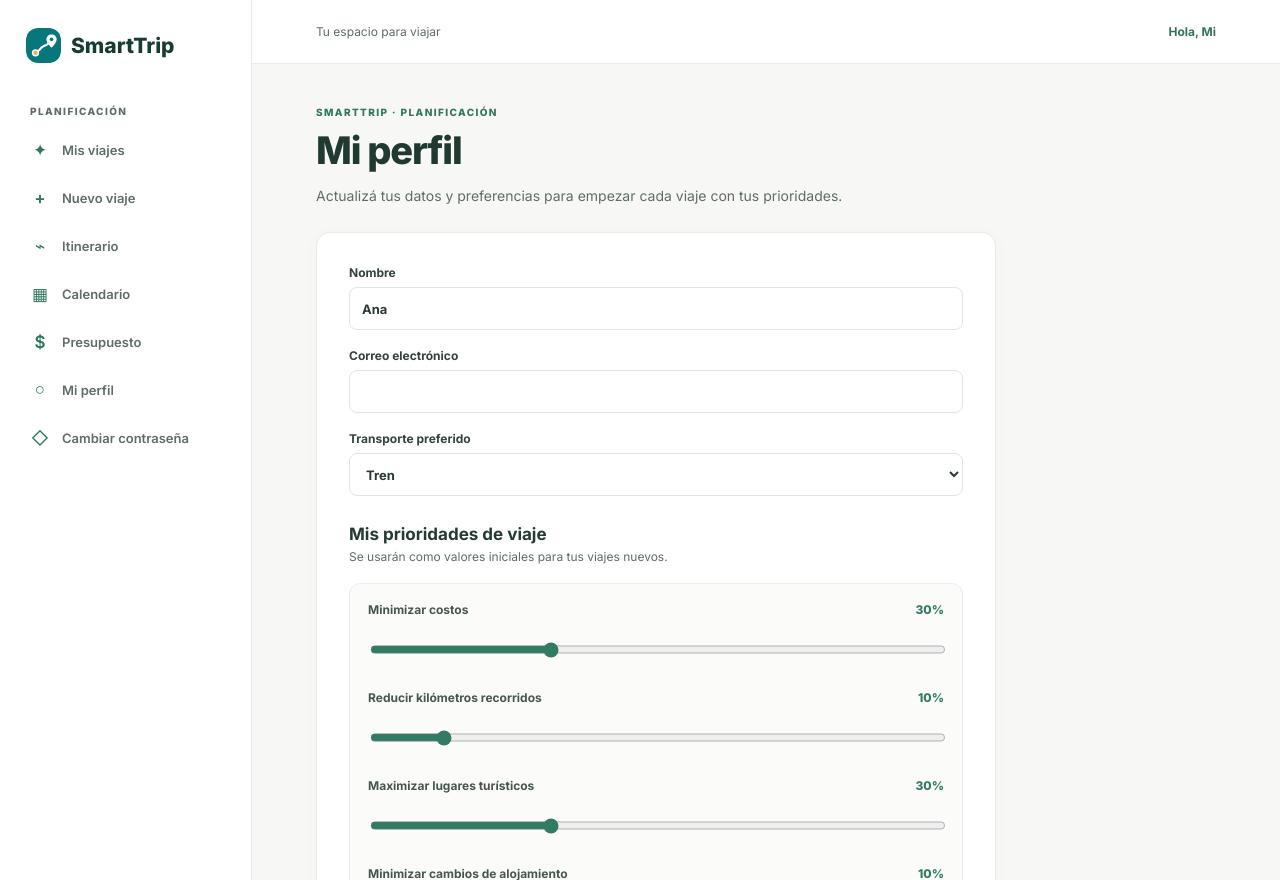
Test case: Profile › si el perfil no tiene correo, pide la contraseña para el que se ingrese
Expected: the field labelled "Contraseña actual" is not shown
Type "ana@example.test" into the field labelled "Correo electrónico" at (656, 392), box [349,370,963,413]
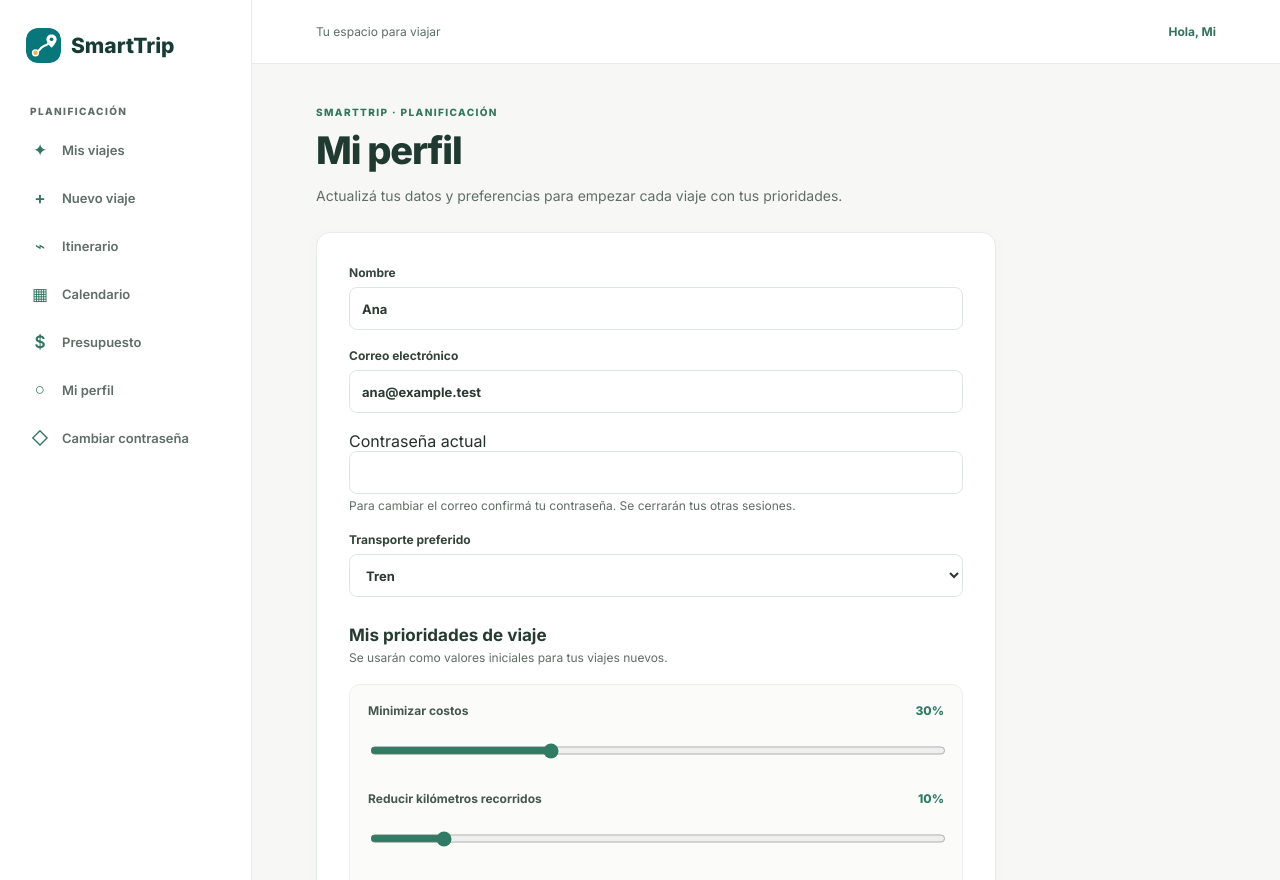
Type "clave actual" into the password field labelled "Contraseña actual" at (656, 472), box [349,451,963,494]
(page scrolled)
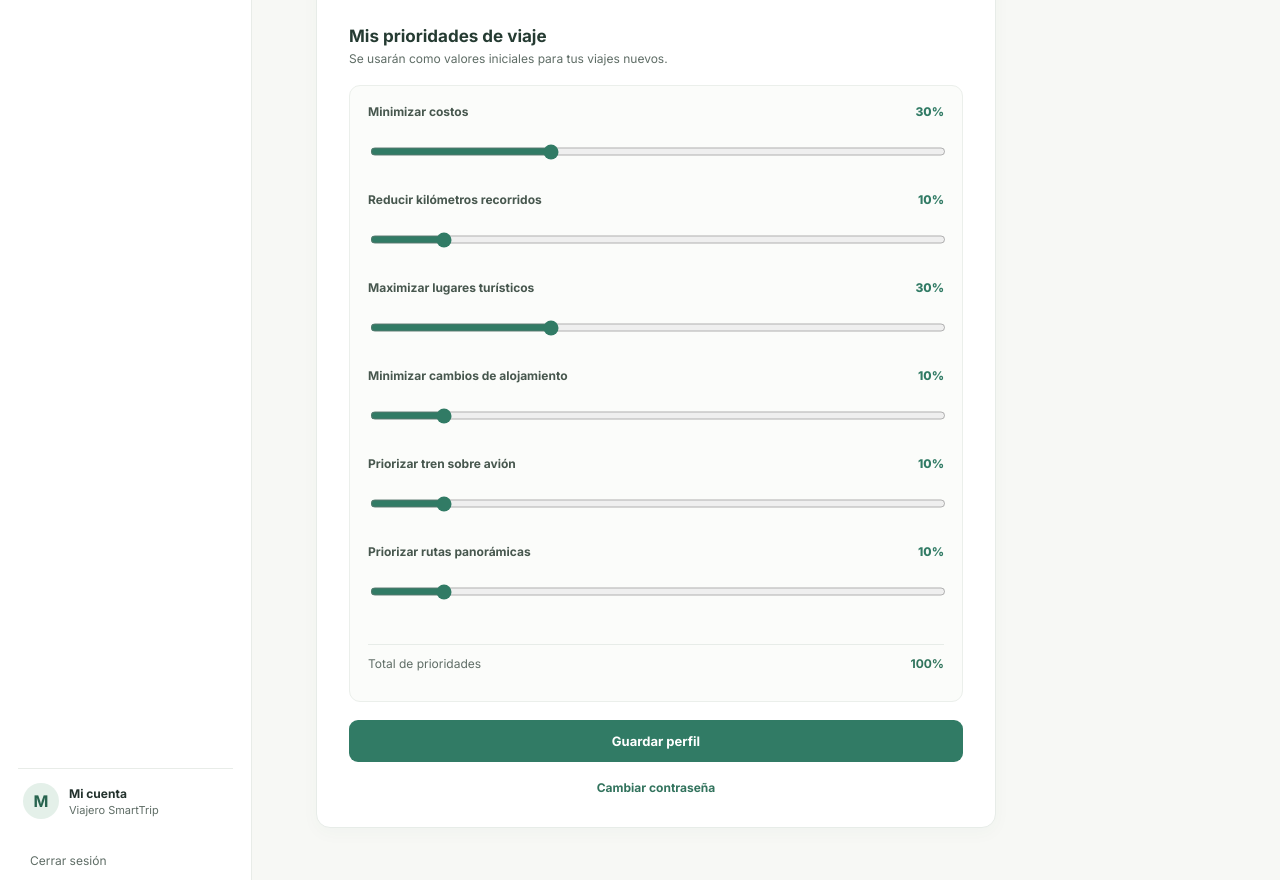
Click the button "Guardar perfil" at (656, 741), box [349,720,963,762]
(page scrolled)
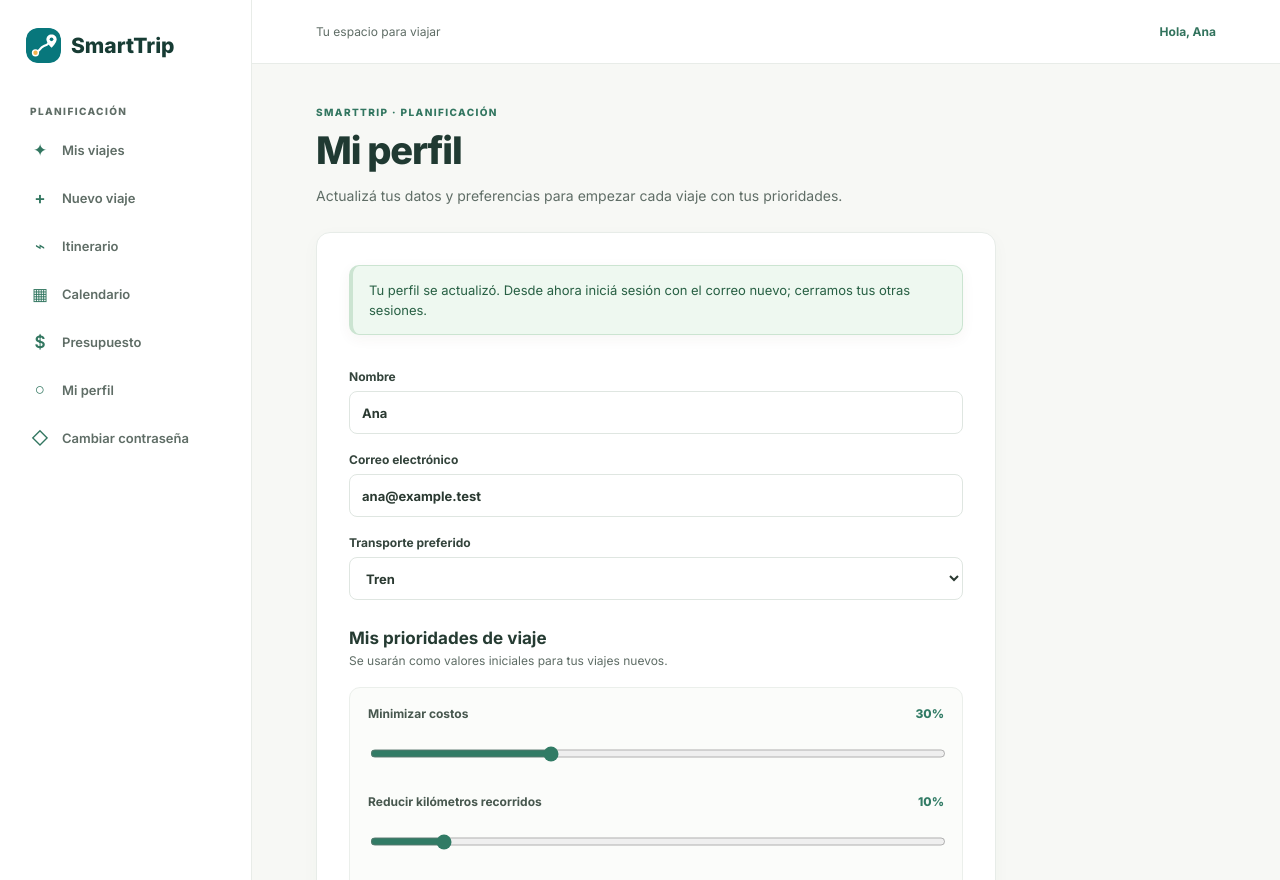
Expected: the text "iniciá sesión con el correo nuevo" is shown, [369,282,910,318]
